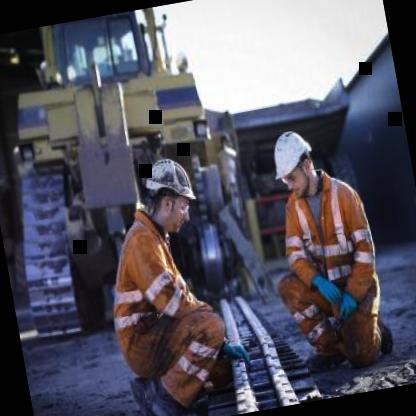helmet: (134, 145, 206, 243), (262, 118, 322, 202)
